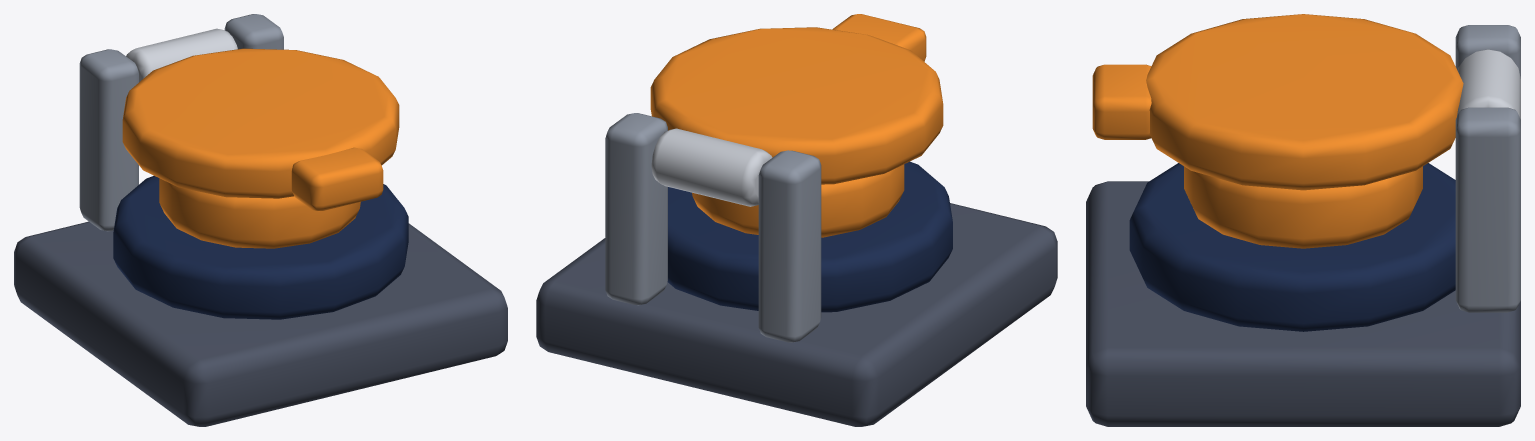
Rendered from Ctrl_Ignite.glb.
3 views of the same model, side by side, from view 1: azimuth 30°, elevation 25°; view 2: azimuth 150°, elevation 25°; view 3: azimuth 270°, elevation 25° (orthographic). The views are drawn at different scales.
Visible parts, largest first — view 1: Ctrl_Ignite.Base, Ctrl_Ignite.Move_Cover, Ctrl_Ignite.Collar, Ctrl_Ignite.HingeL, Ctrl_Ignite.Move_Button, Ctrl_Ignite.HingeR; view 2: Ctrl_Ignite.Base, Ctrl_Ignite.Move_Cover, Ctrl_Ignite.Collar, Ctrl_Ignite.HingeL, Ctrl_Ignite.HingeR, Ctrl_Ignite.Move_Button; view 3: Ctrl_Ignite.Base, Ctrl_Ignite.Move_Cover, Ctrl_Ignite.Collar, Ctrl_Ignite.HingeR, Ctrl_Ignite.Move_Button, Ctrl_Ignite.HingeL.
Part boxes in pixels (bbox=[...]): Ctrl_Ignite.Base: bbox=[14, 221, 507, 426]; Ctrl_Ignite.Move_Cover: bbox=[122, 28, 399, 211]; Ctrl_Ignite.Collar: bbox=[113, 176, 408, 319]; Ctrl_Ignite.HingeL: bbox=[79, 49, 138, 231]; Ctrl_Ignite.Move_Button: bbox=[159, 178, 360, 248]; Ctrl_Ignite.HingeR: bbox=[224, 14, 283, 49]; Ctrl_Ignite.Base: bbox=[536, 203, 1057, 426]; Ctrl_Ignite.Move_Cover: bbox=[650, 14, 943, 206]; Ctrl_Ignite.Collar: bbox=[667, 161, 952, 312]; Ctrl_Ignite.HingeL: bbox=[758, 150, 821, 342]; Ctrl_Ignite.HingeR: bbox=[605, 113, 667, 305]; Ctrl_Ignite.Move_Button: bbox=[692, 164, 904, 237]; Ctrl_Ignite.Base: bbox=[1086, 181, 1520, 426]; Ctrl_Ignite.Move_Cover: bbox=[1092, 14, 1520, 190]; Ctrl_Ignite.Collar: bbox=[1129, 163, 1455, 331]; Ctrl_Ignite.HingeR: bbox=[1455, 107, 1520, 312]; Ctrl_Ignite.Move_Button: bbox=[1184, 166, 1422, 248]; Ctrl_Ignite.HingeL: bbox=[1455, 25, 1520, 78].
Bounding box in the file's own units: 0.2 × 0.1375 × 0.2.
Materials: 1 (1 with a texture image).
